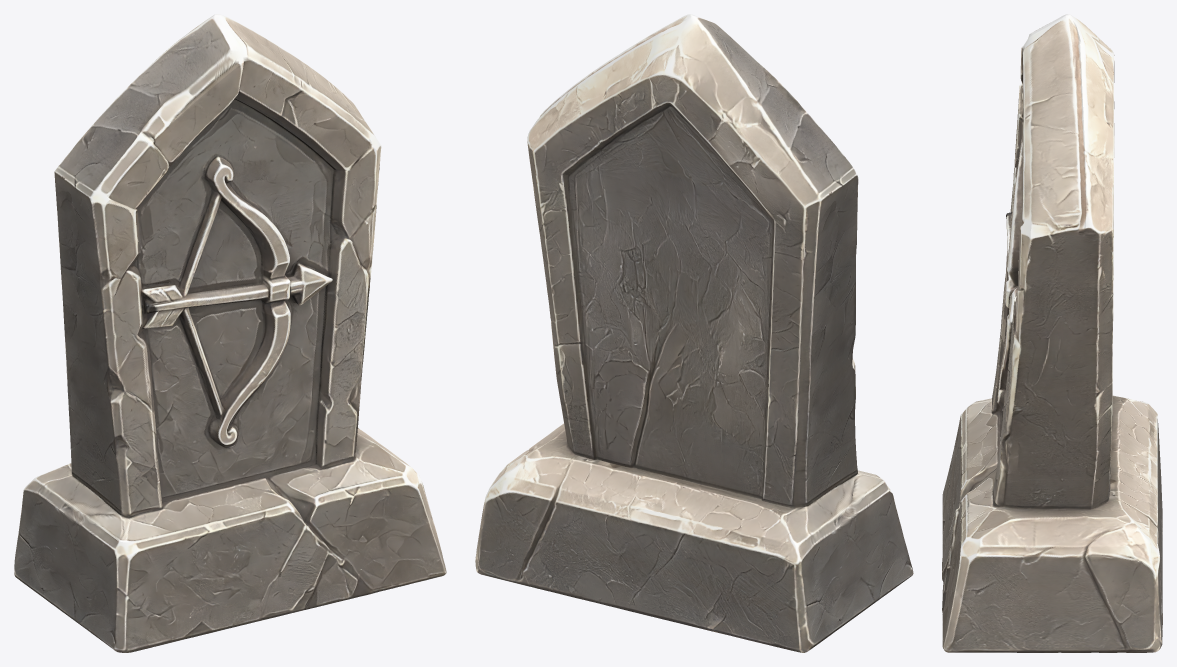
The model's file is Archer Grave.glb.
3 views of the same model, side by side, from view 1: azimuth 30°, elevation 25°; view 2: azimuth 150°, elevation 25°; view 3: azimuth 270°, elevation 25° (orthographic).
Parts seen in each view (by area): view 1: model; view 2: model; view 3: model.
Boxes of the visible parts, bbox=[...] form: model: bbox=[14, 14, 446, 652]; model: bbox=[475, 14, 913, 652]; model: bbox=[942, 14, 1162, 652].
Size of the model in its own units: 1.18 by 1.9 by 0.6823.
Materials: 1 (1 with a texture image).
